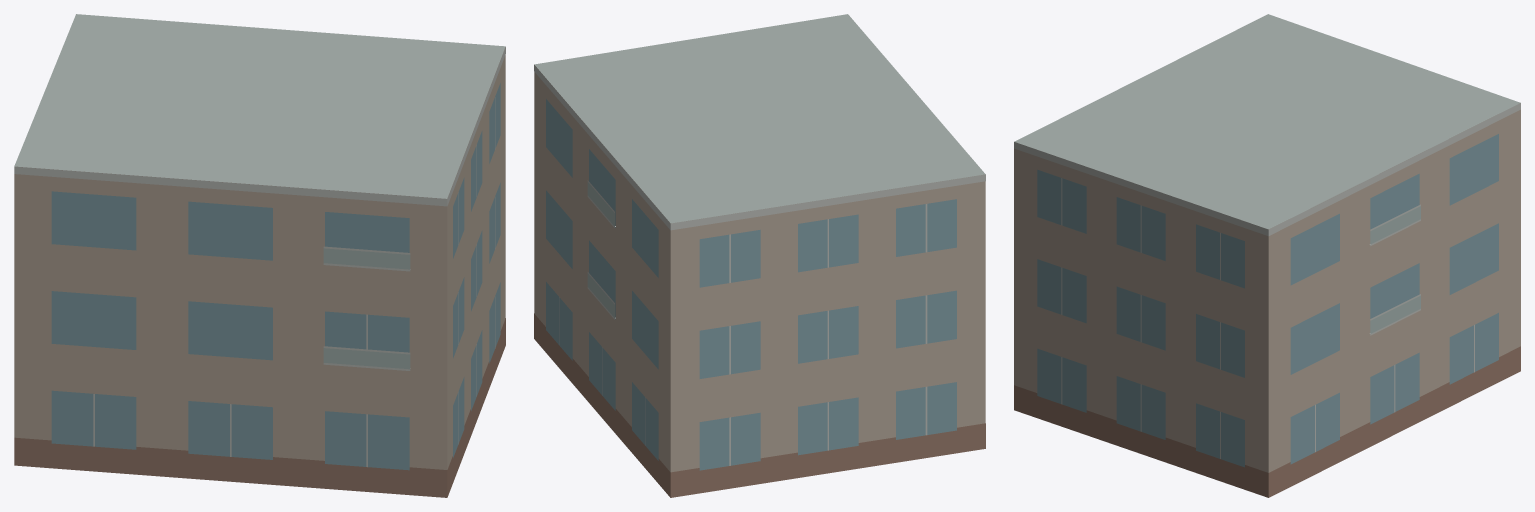
Rendered from survey-upis-32708710.glb.
The picture shows the model from 3 angles, left to right: view 1: azimuth 30°, elevation 25°; view 2: azimuth 150°, elevation 25°; view 3: azimuth 270°, elevation 25°; orthographic projection. The views are drawn at different scales.
Visible parts, largest first — view 1: survey-upis-32708710.tmp; view 2: survey-upis-32708710.tmp; view 3: survey-upis-32708710.tmp.
Boxes of the visible parts, <box> form: survey-upis-32708710.tmp: <box>14,14,505,497</box>; survey-upis-32708710.tmp: <box>534,14,985,497</box>; survey-upis-32708710.tmp: <box>1014,14,1520,497</box>.
Size of the model in its own units: 16.71 by 9.7 by 16.6.
